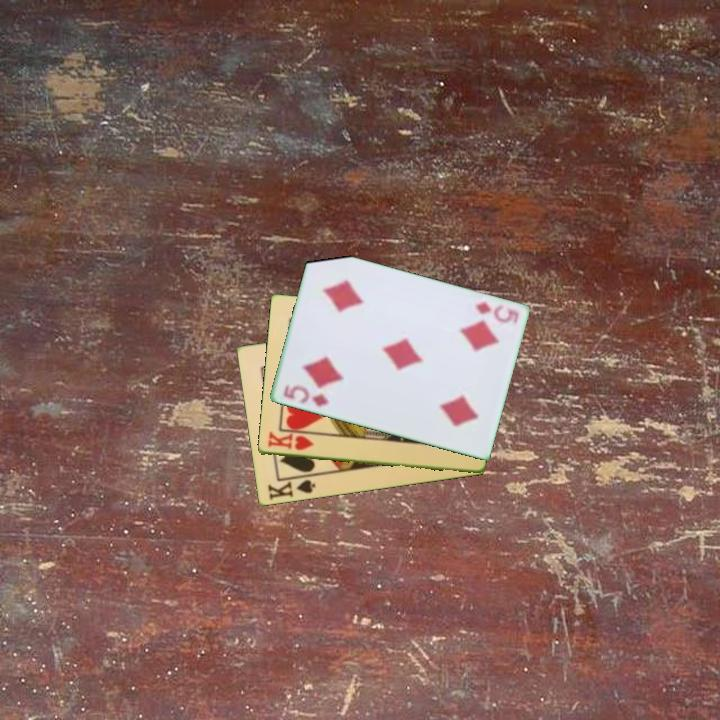5d: (279, 381, 332, 410), (471, 298, 521, 326)
Kh: (264, 429, 316, 453)
Ks: (264, 476, 318, 503)
